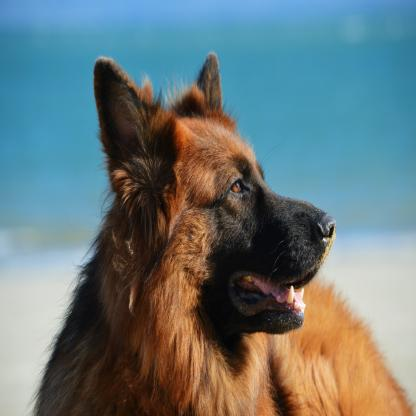german shepherd: (37, 54, 412, 416)
